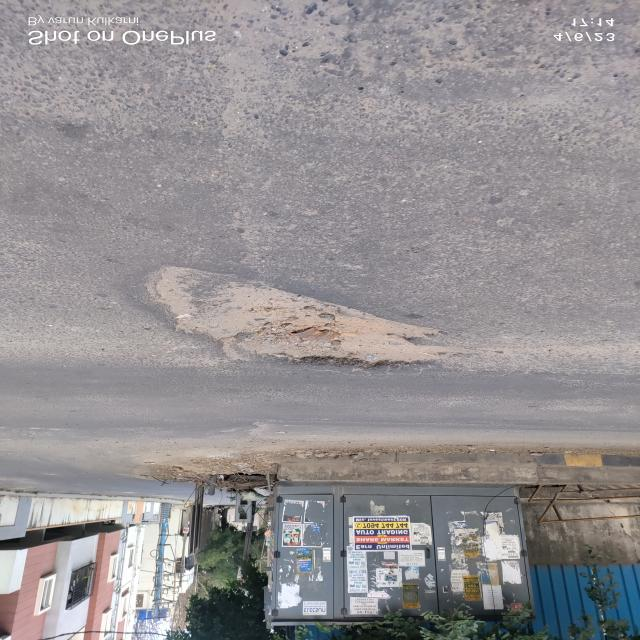potholes: (143, 266, 456, 368)
